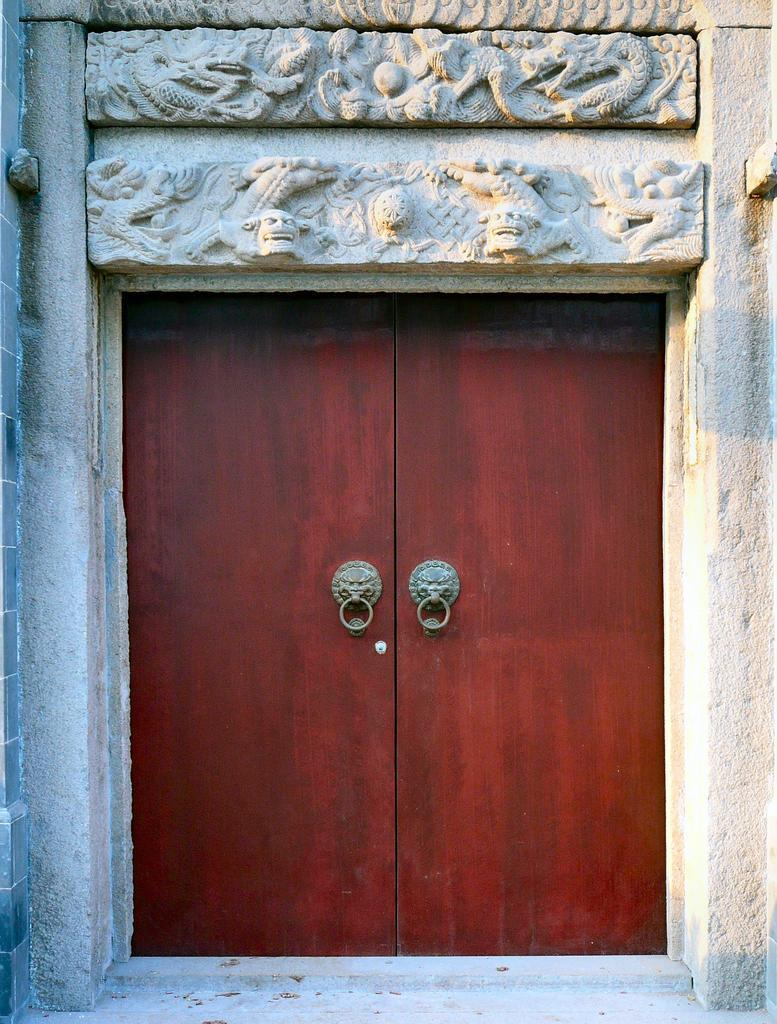handle: (332, 580, 379, 647), (417, 593, 456, 650)
